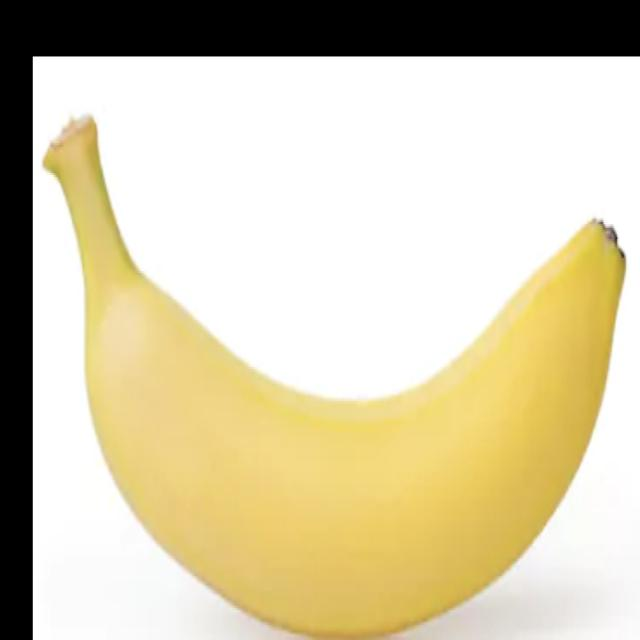Ripe: (37, 90, 639, 640)
